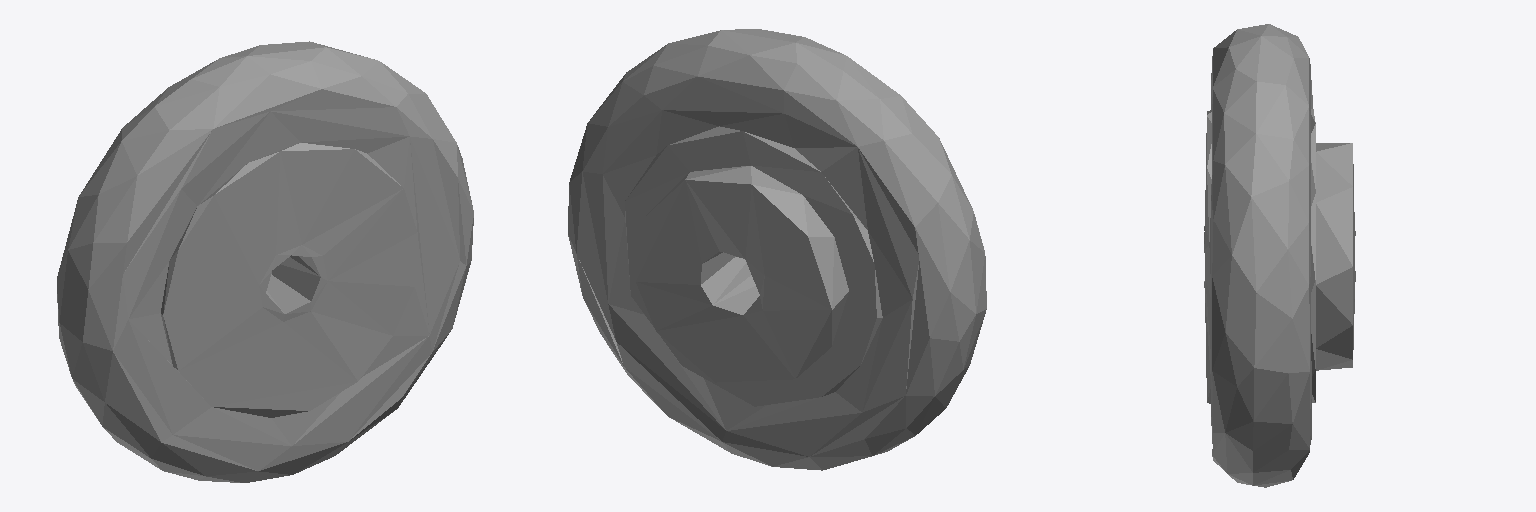
Rendered from br_caster_r_wheel_link.OBJ.
3 views of the same model, side by side, from view 1: azimuth 30°, elevation 25°; view 2: azimuth 150°, elevation 25°; view 3: azimuth 270°, elevation 25° (orthographic).
Visible parts, largest first — view 1: /ambf/env/pr2/br_caster_r_wheel_link_/ambf/env/pr2/br_caster_r_w; view 2: /ambf/env/pr2/br_caster_r_wheel_link_/ambf/env/pr2/br_caster_r_w; view 3: /ambf/env/pr2/br_caster_r_wheel_link_/ambf/env/pr2/br_caster_r_w.
Boxes of the visible parts, box(x1,y1,x2,y2) form: /ambf/env/pr2/br_caster_r_wheel_link_/ambf/env/pr2/br_caster_r_w: box(57, 41, 473, 482); /ambf/env/pr2/br_caster_r_wheel_link_/ambf/env/pr2/br_caster_r_w: box(568, 29, 986, 470); /ambf/env/pr2/br_caster_r_wheel_link_/ambf/env/pr2/br_caster_r_w: box(1204, 24, 1355, 487).
Size of the model in its own units: 0.1593 by 0.1588 by 0.0515.